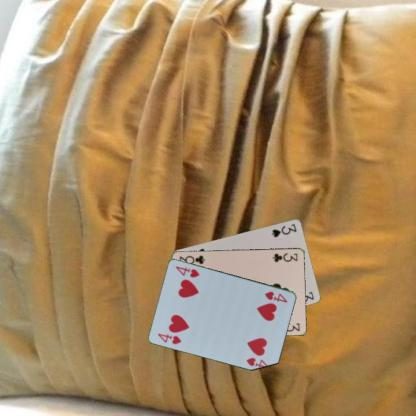3c: (270, 250, 299, 264)
3s: (269, 221, 298, 239)
4h: (156, 330, 182, 346), (262, 289, 289, 303)
